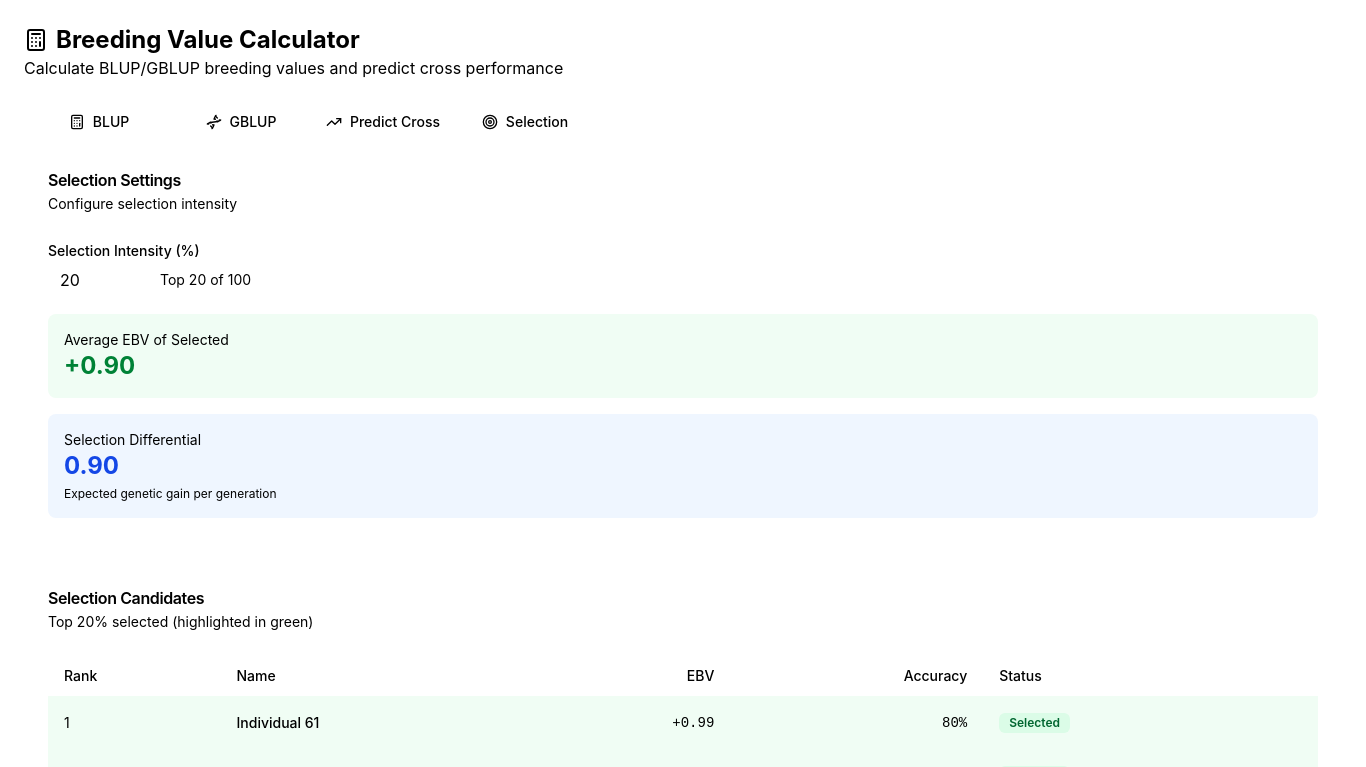
Test: BreedingValueCalculator Performance › should not re-sort individuals when selection intensity changes
Note: Change selection intensity
Replace the text in the number field showing "20" with "30" at point(96, 280), box [48,262,144,298]
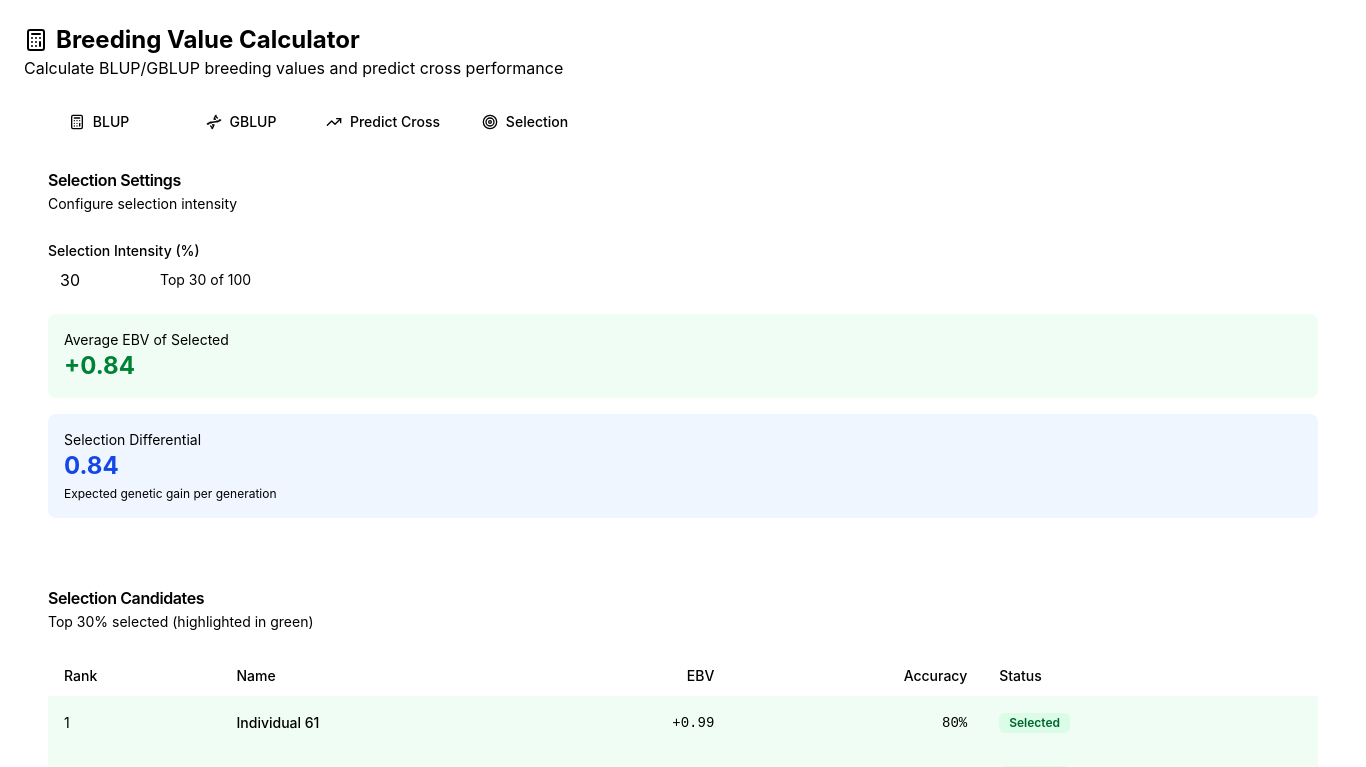
Expected: the text "Top 30 of 100" is shown, [160,270,251,290]
